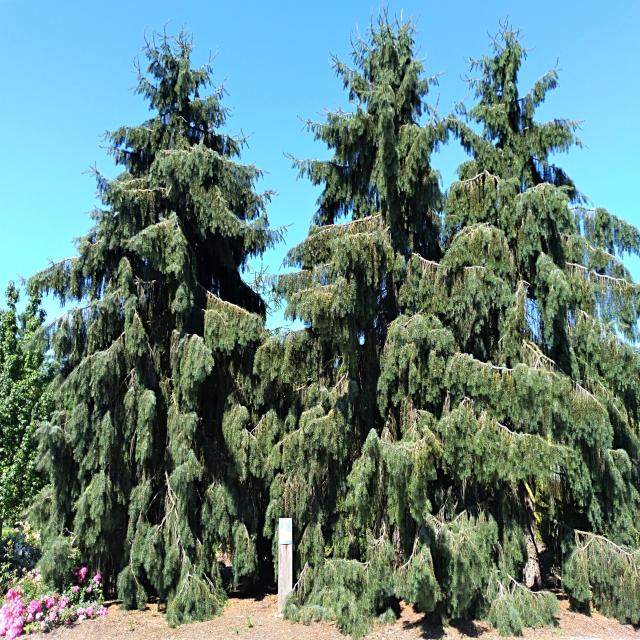Picea breweriana: (41, 14, 282, 611), (273, 21, 456, 586), (441, 12, 587, 577)
